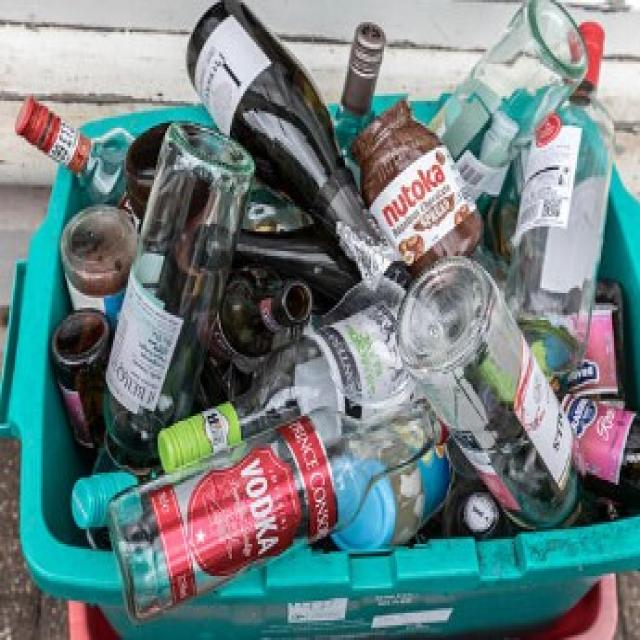electronic: (107, 400, 453, 620), (184, 2, 417, 300), (85, 126, 256, 497), (396, 257, 586, 534), (508, 18, 620, 385)
